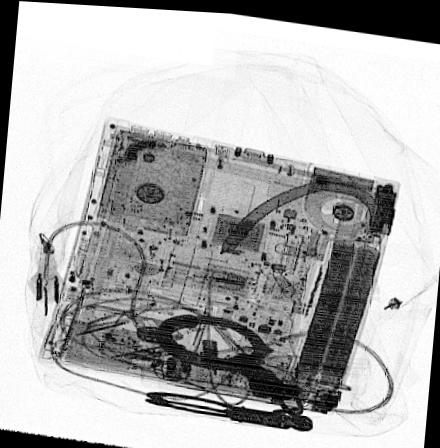HandCuffs: (137, 311, 314, 427)
